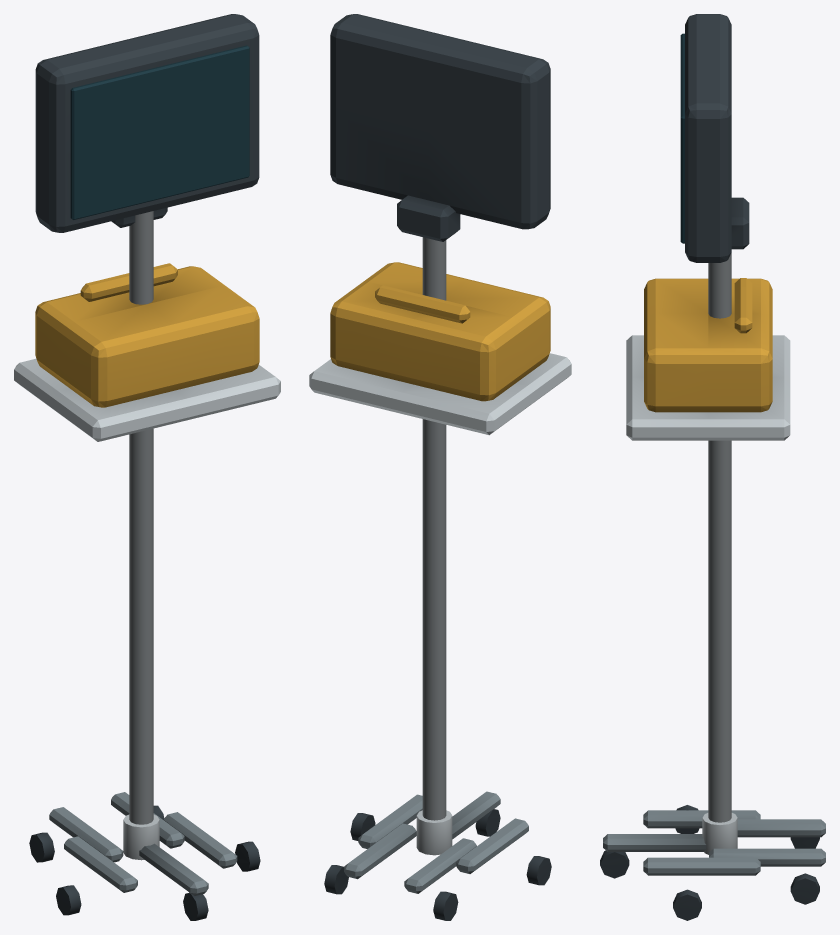
The model's file is monitor.glb.
3 renders of one model, left to right at view 1: azimuth 30°, elevation 25°; view 2: azimuth 150°, elevation 25°; view 3: azimuth 270°, elevation 25°, orthographic. The views are drawn at different scales.
Visible parts, largest first — view 1: screen, defib, body, stand, shelf, base, wheels; view 2: body, defib, stand, shelf, base, wheels; view 3: defib, body, stand, base, shelf, wheels, screen.
Part boxes in pixels (box(x1,y1,x2,y2)): screen: box(70, 45, 249, 219); defib: box(35, 263, 259, 407); body: box(35, 14, 259, 232); stand: box(123, 211, 159, 860); shelf: box(14, 358, 280, 441); base: box(49, 792, 237, 895); wheels: box(29, 805, 260, 920); body: box(330, 14, 550, 241); defib: box(330, 262, 550, 401); stand: box(416, 237, 452, 855); shelf: box(309, 353, 571, 435); base: box(344, 791, 528, 893); wheels: box(324, 809, 551, 920); defib: box(644, 278, 772, 412); body: box(685, 14, 749, 262); stand: box(702, 253, 737, 854); base: box(603, 810, 825, 875); shelf: box(626, 335, 790, 440); wheels: box(600, 805, 819, 920); screen: box(680, 33, 684, 243).
Bounding box in the file's own units: 0.4 × 1.54 × 0.3859.
